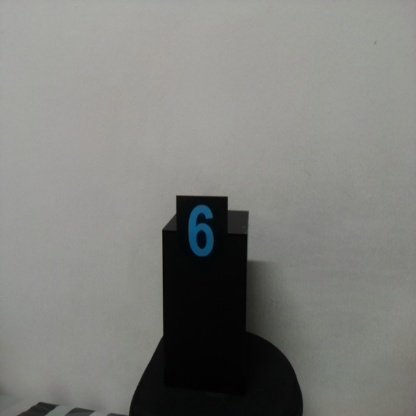id_6: (176, 197, 228, 276)
